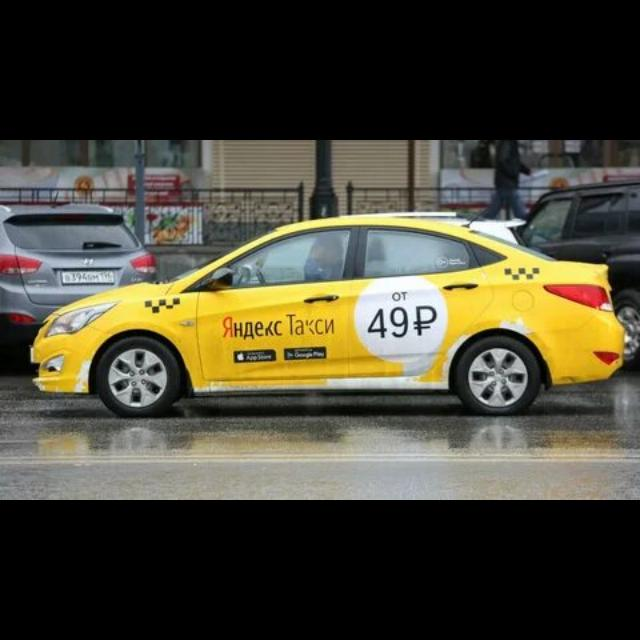taxi: (29, 212, 627, 418)
